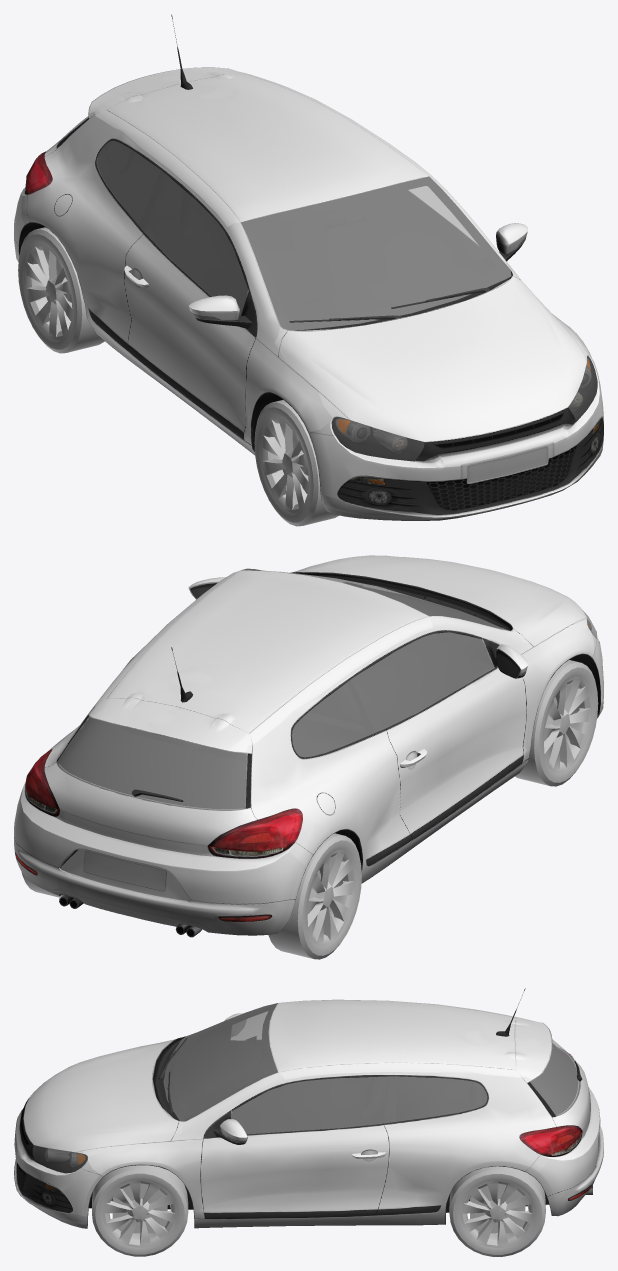
The model's file is Car_1.FBX.
3 renders of one model, top to bottom at view 1: azimuth 30°, elevation 25°; view 2: azimuth 150°, elevation 25°; view 3: azimuth 270°, elevation 25°, orthographic. The views are drawn at different scales.
Visible parts, largest first — view 1: Car_1_LOD0, Wheels_RR_LOD0, Wheels_FR_LOD0; view 2: Car_1_LOD0, Wheels_RR_LOD0, Wheels_FR_LOD0; view 3: Car_1_LOD0, Wheels_FL_LOD0, Wheels_RL_LOD0.
Boxes of the visible parts, x1,y1,x2,y2 form: Car_1_LOD0: (14,14,603,520); Wheels_RR_LOD0: (18,227,104,353); Wheels_FR_LOD0: (254,399,339,526); Car_1_LOD0: (14,555,603,937); Wheels_RR_LOD0: (268,833,361,959); Wheels_FR_LOD0: (515,660,598,786); Car_1_LOD0: (14,988,603,1228); Wheels_FL_LOD0: (92,1165,188,1256); Wheels_RL_LOD0: (449,1166,545,1256).
Size of what is drawn, in the model's own units: 2.11 by 4.25 by 1.73.
